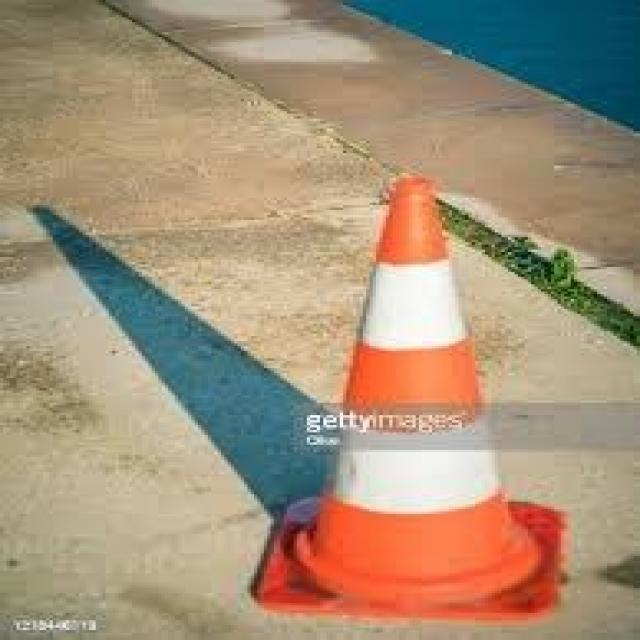Cone: (250, 173, 558, 621)
